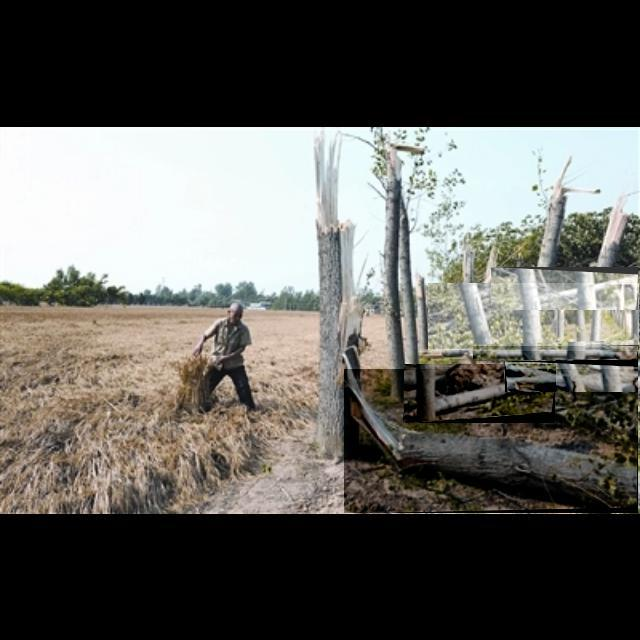fallen_tree: (344, 369, 639, 514), (428, 283, 640, 351), (404, 364, 556, 424), (491, 267, 639, 311), (505, 361, 639, 393), (473, 346, 639, 362)
